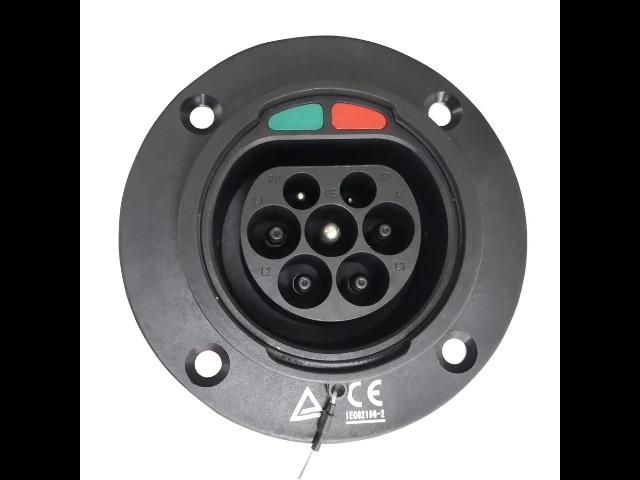inlet: (241, 165, 421, 323)
inlet-above-left: (282, 173, 322, 210)
inlet-above-right: (339, 172, 377, 208)
inlet-below-left: (279, 254, 332, 310)
inlet-below-right: (337, 252, 390, 307)
inlet-circle: (304, 204, 359, 258)
inlet-circle-left: (248, 205, 300, 261)
inlet-circle-right: (362, 201, 416, 256)
